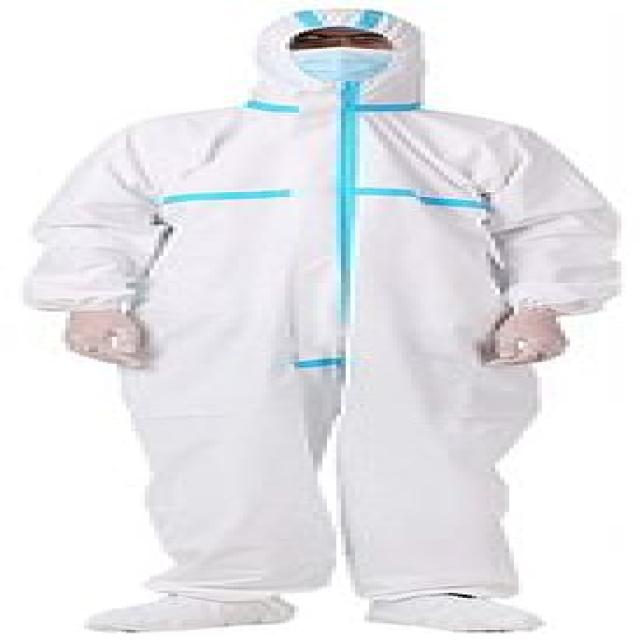Coverall: (14, 3, 621, 635)
Mask: (257, 47, 444, 93)
